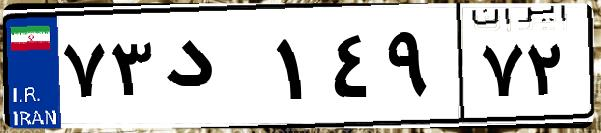1: (270, 28, 330, 110)
2: (525, 38, 570, 115)
3: (110, 28, 158, 98)
4: (330, 28, 385, 110)
7: (57, 26, 110, 100), (475, 38, 525, 113)
9: (385, 28, 445, 110)
د: (158, 20, 270, 120)
